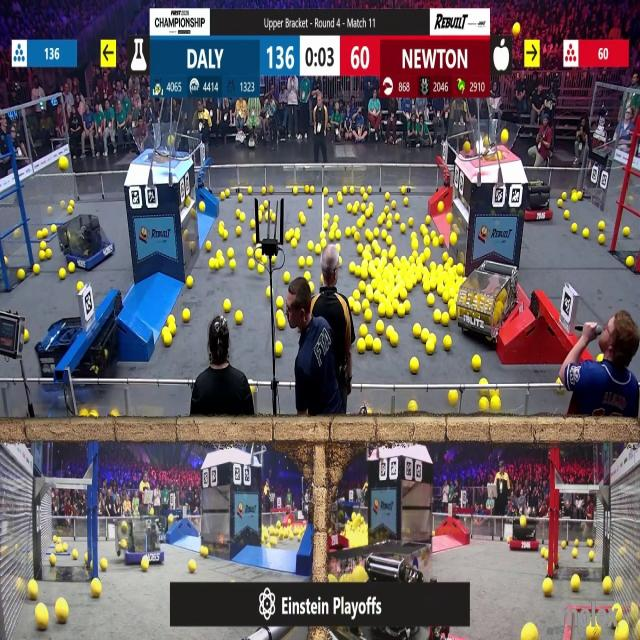ball_airborne: (61, 158, 69, 172), (514, 24, 522, 36), (500, 132, 507, 142), (169, 135, 175, 146), (464, 142, 470, 152), (483, 136, 488, 146)
ball_ground: (35, 606, 48, 631), (58, 602, 70, 624), (28, 581, 38, 600), (542, 580, 552, 598), (92, 580, 102, 598), (570, 576, 580, 592), (450, 390, 460, 406), (480, 396, 490, 411), (471, 355, 480, 370), (411, 358, 420, 373), (603, 578, 611, 594), (276, 342, 284, 357), (357, 340, 365, 354), (390, 334, 398, 348), (278, 316, 286, 329), (374, 341, 382, 354), (426, 342, 434, 355), (414, 324, 422, 337), (444, 312, 451, 326), (359, 324, 367, 336), (410, 399, 418, 411), (182, 309, 189, 322), (451, 233, 458, 246), (16, 270, 24, 281), (358, 281, 366, 292), (202, 547, 210, 558), (223, 300, 230, 312), (433, 311, 440, 323), (364, 310, 371, 322), (237, 312, 244, 324), (627, 256, 635, 266), (456, 266, 464, 276), (284, 273, 291, 284), (186, 276, 192, 288), (24, 332, 30, 344), (428, 293, 434, 305), (307, 256, 314, 266), (598, 220, 605, 230), (227, 248, 234, 258), (364, 231, 371, 241), (101, 560, 108, 570), (34, 265, 40, 276), (49, 555, 55, 566), (541, 549, 547, 560), (256, 266, 264, 274), (80, 410, 88, 418), (247, 248, 254, 257), (431, 239, 438, 248), (254, 249, 261, 258), (598, 236, 605, 245), (584, 230, 590, 240), (61, 270, 67, 280), (293, 230, 299, 240), (72, 550, 78, 560), (298, 256, 304, 266), (316, 244, 322, 254), (624, 228, 630, 238), (447, 213, 453, 223), (206, 242, 212, 252), (481, 378, 488, 386), (424, 237, 430, 246), (248, 261, 254, 270), (375, 247, 381, 256), (572, 549, 578, 558), (270, 213, 276, 222), (390, 246, 396, 255), (40, 241, 46, 250), (272, 254, 277, 264), (237, 225, 242, 235), (413, 240, 418, 250), (388, 308, 393, 318), (392, 256, 399, 263), (327, 232, 333, 240), (320, 232, 326, 240), (305, 273, 311, 281), (231, 262, 237, 270), (216, 250, 222, 258), (365, 209, 371, 217), (362, 301, 368, 309), (409, 218, 415, 226), (390, 202, 396, 210), (375, 230, 381, 238), (382, 249, 388, 257), (264, 201, 270, 209), (588, 539, 594, 547), (346, 229, 351, 238), (426, 215, 431, 224), (400, 223, 405, 232), (267, 287, 272, 296), (400, 255, 406, 262), (337, 232, 342, 240), (572, 222, 576, 232), (385, 191, 390, 199), (309, 242, 314, 250), (240, 212, 245, 220), (291, 240, 296, 248), (411, 255, 416, 263), (355, 234, 360, 242), (83, 554, 88, 562), (413, 232, 418, 240), (222, 232, 227, 240), (388, 237, 392, 246), (448, 258, 454, 264), (172, 325, 176, 334), (237, 209, 241, 218), (101, 560, 105, 569), (321, 241, 326, 248), (366, 186, 371, 193), (403, 198, 407, 206), (395, 214, 399, 222), (308, 200, 312, 208), (362, 193, 367, 199), (596, 354, 600, 361), (328, 200, 332, 206), (340, 256, 343, 264), (295, 230, 298, 236)
goal: (466, 119, 520, 160), (131, 132, 190, 160)
robot_blue: (34, 315, 116, 403), (62, 215, 116, 271), (122, 518, 164, 564)
robot_red: (457, 272, 515, 347), (329, 509, 369, 574), (524, 181, 556, 222), (509, 514, 539, 550)
